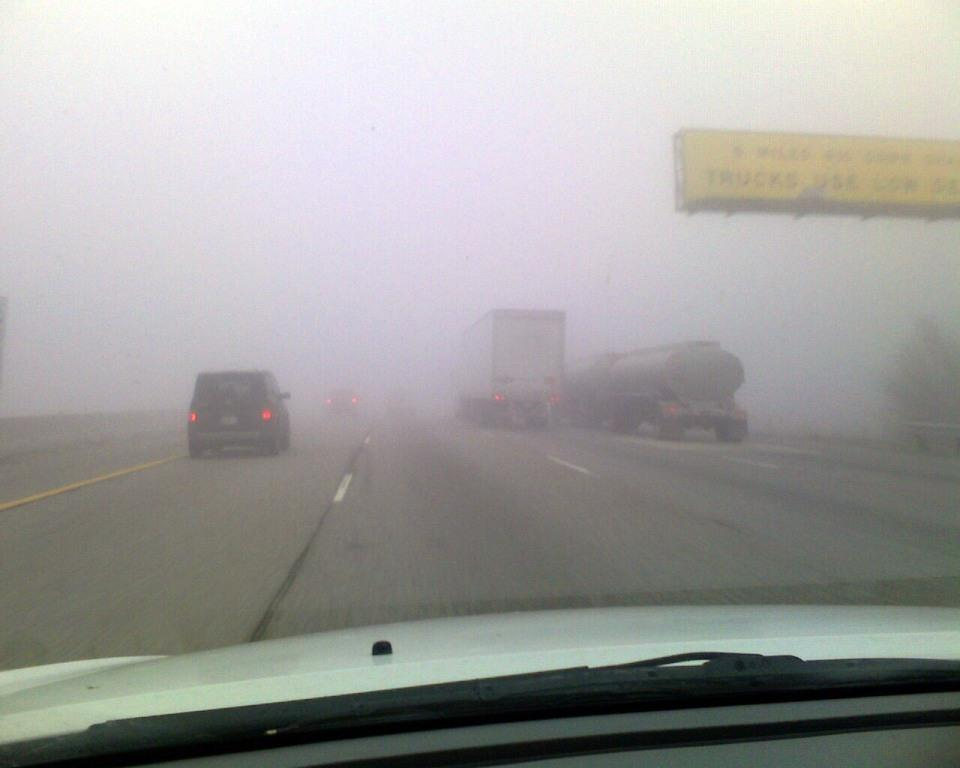airplane: (602, 342, 745, 431)
backpack: (609, 341, 746, 393)
boat: (596, 341, 742, 430)
bus: (0, 425, 960, 750), (0, 578, 952, 768), (467, 321, 667, 437), (455, 309, 564, 432), (602, 342, 745, 431), (182, 369, 288, 457), (596, 380, 742, 442), (460, 378, 557, 426), (311, 385, 363, 434), (320, 387, 360, 416)
car: (2, 432, 960, 751), (6, 596, 932, 768), (429, 318, 761, 446), (599, 343, 746, 445), (182, 370, 290, 457), (458, 342, 561, 430), (568, 346, 698, 414), (560, 364, 675, 433), (613, 343, 745, 398), (620, 387, 748, 443), (590, 381, 706, 437), (473, 381, 556, 429), (576, 382, 649, 433), (322, 400, 368, 478), (651, 395, 727, 441), (447, 379, 510, 431), (682, 396, 748, 442), (559, 389, 626, 434), (340, 408, 378, 485), (457, 389, 532, 428), (529, 382, 591, 429), (598, 391, 663, 435), (619, 393, 685, 436), (552, 378, 607, 429), (311, 385, 363, 434), (517, 377, 564, 429), (336, 432, 371, 499), (483, 397, 546, 430), (546, 390, 582, 428), (555, 395, 593, 426), (346, 428, 370, 475), (319, 388, 359, 416), (270, 389, 291, 441), (541, 379, 559, 428)
cell phone: (3, 594, 838, 768), (183, 370, 288, 457)
kite: (606, 342, 741, 404)
motorcycle: (605, 341, 746, 437), (183, 370, 292, 457)
person: (601, 341, 741, 439), (183, 370, 292, 457), (472, 379, 554, 429), (671, 349, 743, 399), (650, 371, 689, 437), (485, 378, 526, 432), (656, 350, 687, 402), (472, 390, 513, 429), (532, 381, 556, 426), (655, 377, 687, 408), (496, 391, 521, 430), (650, 370, 679, 403), (541, 378, 560, 427), (490, 389, 511, 430)
suitcase: (599, 343, 746, 445)
traffic light: (603, 342, 746, 428)
train: (454, 308, 563, 429)
truck: (2, 432, 960, 751), (6, 596, 932, 768), (381, 306, 569, 446), (467, 321, 667, 437), (584, 345, 749, 442), (457, 309, 561, 431), (182, 370, 290, 457), (570, 374, 701, 439), (606, 341, 743, 402), (614, 381, 747, 440), (457, 367, 560, 428), (500, 335, 554, 421), (656, 399, 745, 442), (576, 382, 649, 433), (468, 389, 551, 431), (489, 372, 551, 423), (506, 377, 564, 431), (598, 391, 663, 435), (552, 378, 607, 429), (311, 385, 363, 434), (320, 387, 361, 416)
tv: (604, 342, 745, 420)
umbrella: (606, 341, 743, 402)
